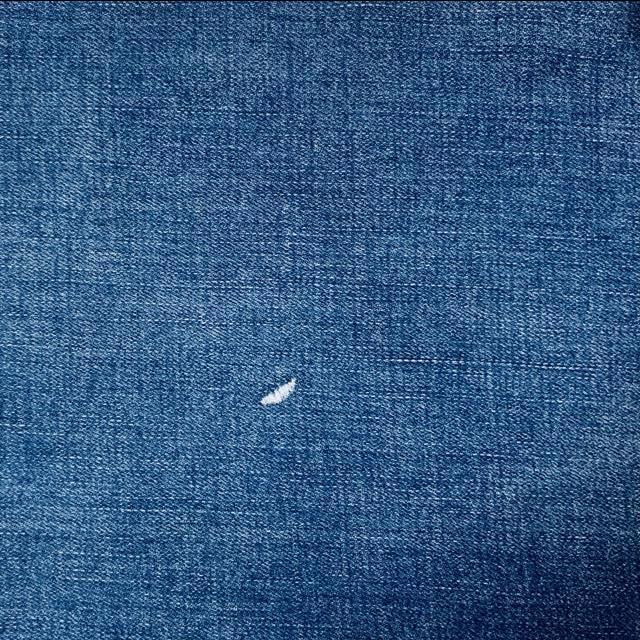Knot: (261, 377, 296, 405)
